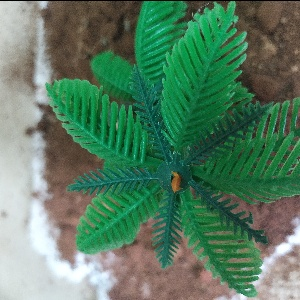plant: (46, 3, 300, 297)
